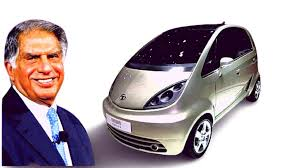Nano: (102, 19, 262, 166)
